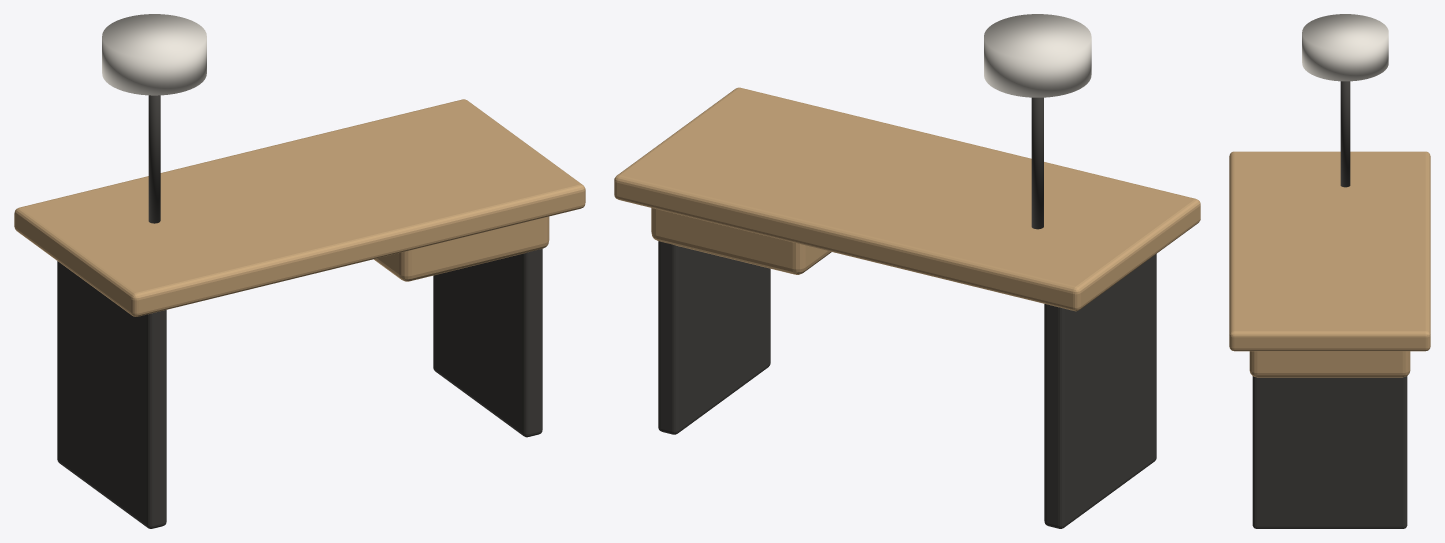
Rendered from desk.glb.
The picture shows the model from 3 angles, left to right: view 1: azimuth 30°, elevation 25°; view 2: azimuth 150°, elevation 25°; view 3: azimuth 270°, elevation 25°; orthographic projection. The views are drawn at different scales.
Visible parts, largest first — view 1: CANONICAL desk top, ACCENT trestle, ACCENT trestle.001, ACCENT lamp shade, CANONICAL drawer, ACCENT lamp stem; view 2: CANONICAL desk top, ACCENT trestle, ACCENT trestle.001, ACCENT lamp shade, CANONICAL drawer, ACCENT lamp stem; view 3: CANONICAL desk top, ACCENT trestle.001, ACCENT lamp shade, CANONICAL drawer, ACCENT lamp stem.
Boxes of the visible parts, left/top/right/bottom form: CANONICAL desk top: left=14, top=99, right=585, bottom=316; ACCENT trestle: left=57, top=261, right=166, bottom=528; ACCENT trestle.001: left=433, top=249, right=542, bottom=437; ACCENT lamp shade: left=102, top=14, right=206, bottom=95; CANONICAL drawer: left=374, top=216, right=549, bottom=281; ACCENT lamp stem: left=148, top=95, right=160, bottom=223; CANONICAL desk top: left=614, top=87, right=1200, bottom=311; ACCENT trestle: left=1044, top=254, right=1156, bottom=528; ACCENT trestle.001: left=658, top=241, right=770, bottom=434; ACCENT lamp shade: left=984, top=14, right=1091, bottom=97; CANONICAL drawer: left=651, top=208, right=831, bottom=274; ACCENT lamp stem: left=1031, top=97, right=1043, bottom=229; CANONICAL desk top: left=1229, top=151, right=1430, bottom=351; ACCENT trestle.001: left=1252, top=376, right=1407, bottom=528; ACCENT lamp shade: left=1302, top=14, right=1388, bottom=81; CANONICAL drawer: left=1249, top=351, right=1410, bottom=377; ACCENT lamp stem: left=1340, top=81, right=1350, bottom=187.
Size of the model in its own units: 1.4 by 1.3 by 0.65.
